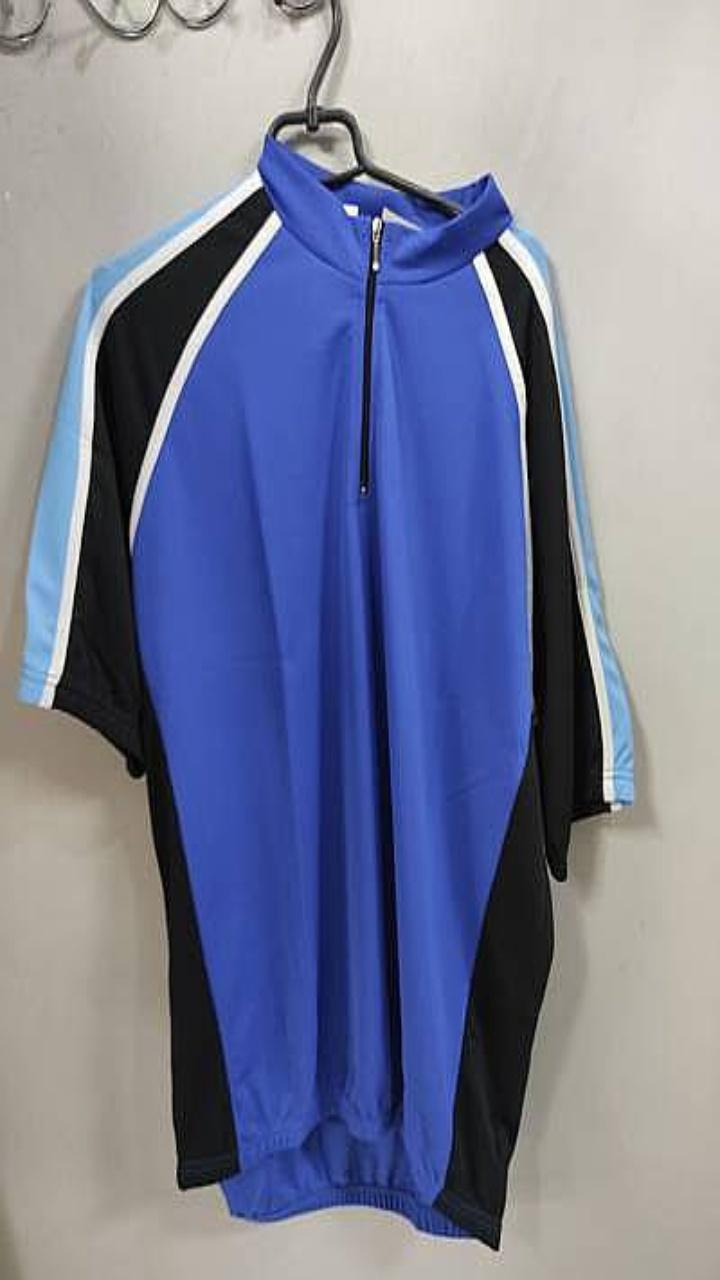Sports_Jacket: (18, 133, 632, 1248)
